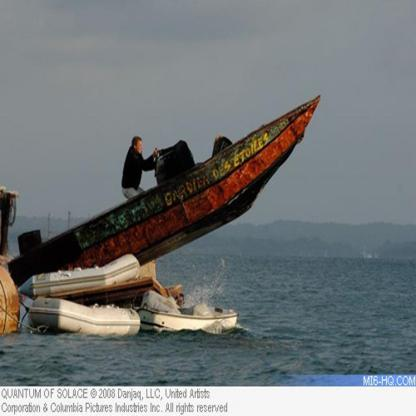face: (178, 297, 185, 308), (138, 141, 143, 154)
